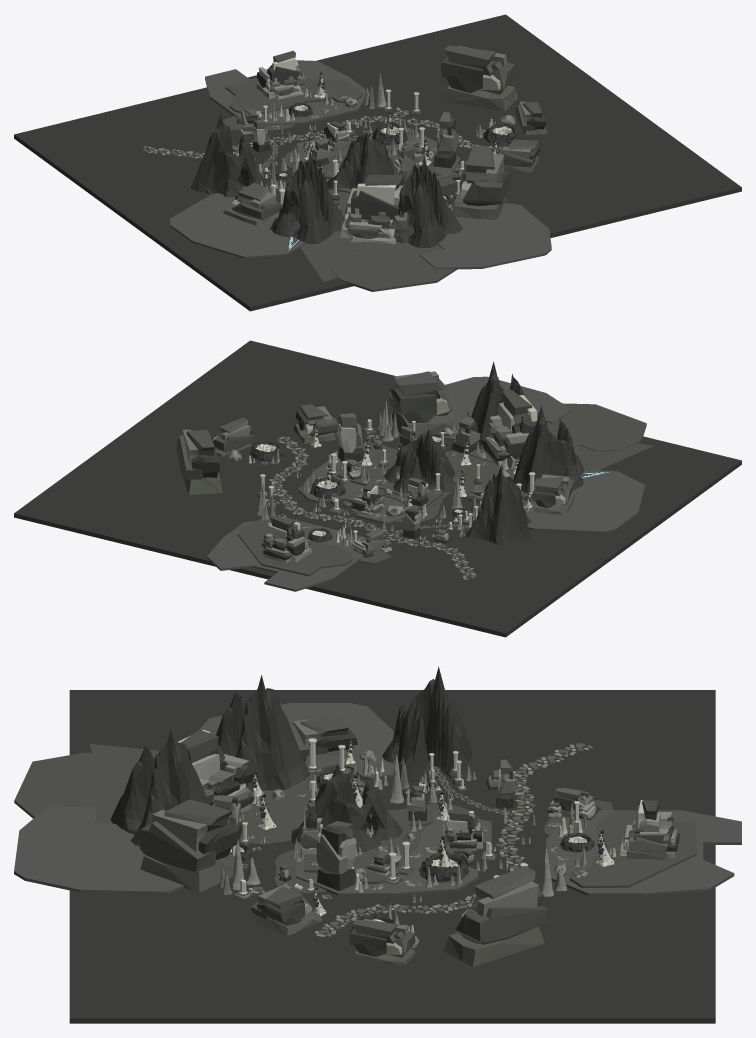
The model's file is Dark_Dungeon.fbx.
3 views of the same model, one above another, from view 1: azimuth 30°, elevation 25°; view 2: azimuth 150°, elevation 25°; view 3: azimuth 270°, elevation 25° (orthographic). The views are drawn at different scales.
Visible parts, largest first — view 1: Ground_1_Sphere, Polygon_16, Polygon_32, Polygon_81, DD_Rock04_5, Landscape_26, DD_Rock03_3, Landscape_18, Landscape_10, DD_Rock04_2, Polygon_36, Polygon_37 (+17 smaller); view 2: Ground_1_Sphere, Polygon_32, Polygon_36, DD_Rock04_2, Polygon_81, Landscape_26, Landscape_10, DD_Rock03_3, Landscape_13, Polygon_1, DD_Rock04_5, Polygon_82 (+19 smaller); view 3: Ground_1_Sphere, Polygon_16, DD_Rock04_2, DD_Rock04_5, Polygon_36, Landscape_26, Polygon_81, Landscape_10, Landscape_18, Polygon_1, Polygon_37, Landscape_13 (+23 smaller).
Boxes of the visible parts, bbox=[...] form: Ground_1_Sphere: bbox=[14, 14, 741, 311]; Polygon_16: bbox=[419, 203, 551, 269]; Polygon_32: bbox=[169, 186, 306, 258]; Polygon_81: bbox=[331, 242, 457, 291]; DD_Rock04_5: bbox=[440, 45, 517, 111]; Landscape_26: bbox=[269, 150, 344, 243]; DD_Rock03_3: bbox=[340, 174, 409, 244]; Landscape_18: bbox=[394, 154, 462, 247]; Landscape_10: bbox=[191, 114, 266, 197]; DD_Rock04_2: bbox=[452, 145, 510, 220]; Polygon_36: bbox=[205, 60, 366, 125]; Polygon_37: bbox=[225, 77, 363, 113]; Ground_1_Sphere: bbox=[14, 340, 741, 637]; Polygon_32: bbox=[523, 469, 644, 533]; Polygon_36: bbox=[207, 518, 363, 591]; DD_Rock04_2: bbox=[388, 371, 458, 437]; Polygon_81: bbox=[452, 403, 646, 462]; Landscape_26: bbox=[513, 405, 584, 493]; Landscape_10: bbox=[465, 464, 531, 544]; DD_Rock03_3: bbox=[481, 389, 538, 468]; Landscape_13: bbox=[384, 429, 455, 494]; Polygon_1: bbox=[260, 435, 481, 579]; DD_Rock04_5: bbox=[176, 429, 222, 494]; Polygon_82: bbox=[445, 443, 653, 498]; Ground_1_Sphere: bbox=[69, 690, 715, 1023]; Polygon_16: bbox=[14, 806, 183, 894]; DD_Rock04_2: bbox=[139, 799, 238, 892]; DD_Rock04_5: bbox=[444, 866, 548, 966]; Polygon_36: bbox=[546, 810, 741, 895]; Landscape_26: bbox=[216, 675, 309, 791]; Polygon_81: bbox=[14, 752, 246, 827]; Landscape_10: bbox=[382, 666, 473, 782]; Landscape_18: bbox=[110, 729, 209, 846]; Polygon_1: bbox=[242, 743, 592, 936]; Polygon_37: bbox=[569, 810, 696, 887]; Landscape_13: bbox=[291, 764, 402, 852].
Size of the model in its own units: 3733 by 626 by 3501.
Materials: 1 (1 with a texture image).
